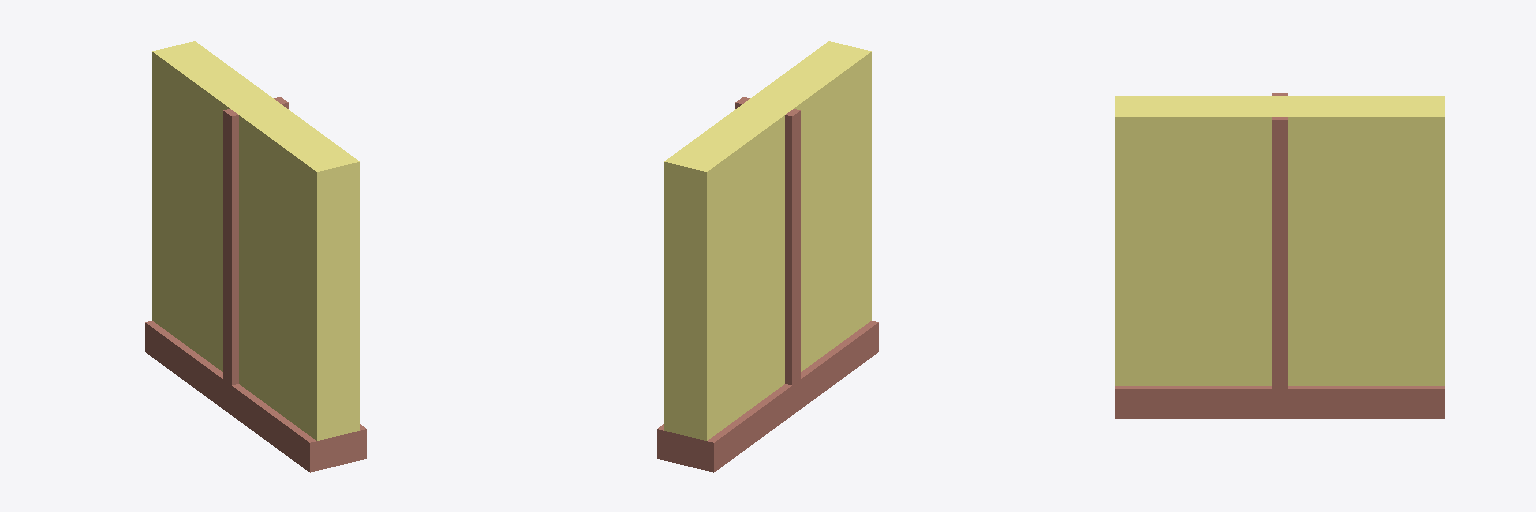
3 views of the same model, side by side, from view 1: azimuth 30°, elevation 25°; view 2: azimuth 150°, elevation 25°; view 3: azimuth 270°, elevation 25° (orthographic).
Visible parts, largest first — view 1: ParedConBarra; view 2: ParedConBarra; view 3: ParedConBarra.
Boxes of the visible parts, box(x1,y1,x2,y2) form: ParedConBarra: box(145, 41, 366, 472); ParedConBarra: box(657, 41, 878, 472); ParedConBarra: box(1115, 93, 1444, 418).
Bounding box in the file's own units: 0.8 × 4 × 4.
Materials: 1 (1 with a texture image).